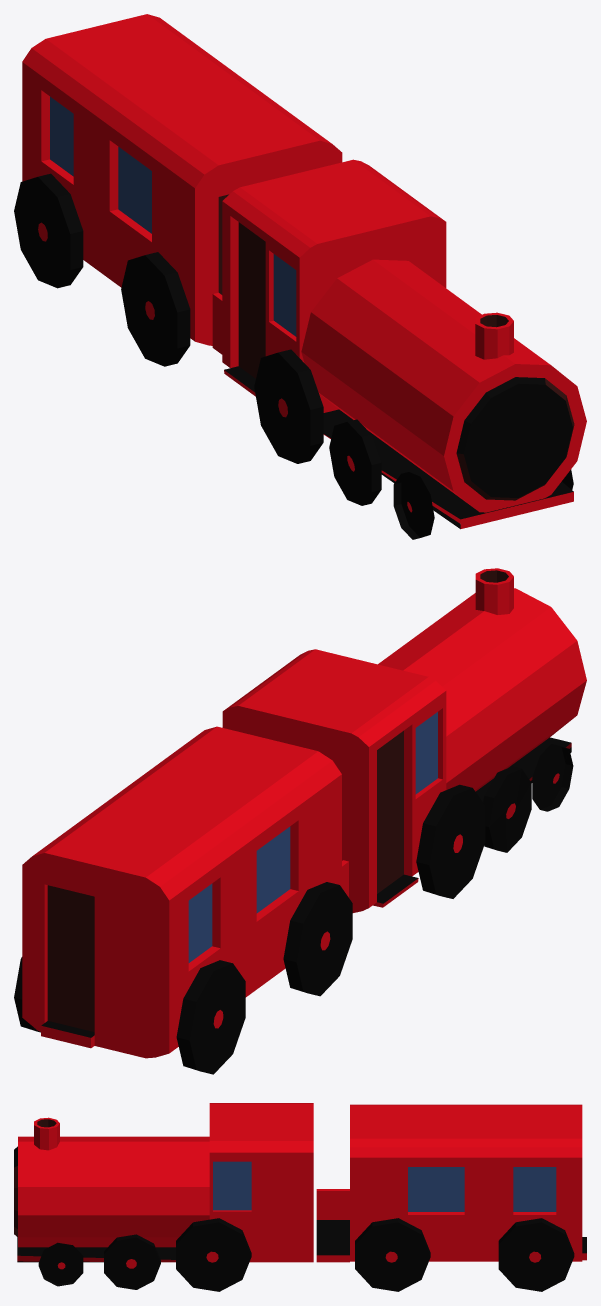
File: trainjam.fbx
3 renders of one model, top to bottom at view 1: azimuth 30°, elevation 25°; view 2: azimuth 150°, elevation 25°; view 3: azimuth 270°, elevation 25°, orthographic. The views are drawn at different scales.
Visible parts, largest first — view 1: Cube; view 2: Cube; view 3: Cube.
Boxes of the visible parts, left/top/right/bottom form: Cube: left=14, top=14, right=586, bottom=539; Cube: left=14, top=568, right=586, bottom=1074; Cube: left=14, top=1103, right=586, bottom=1291.
Size of the model in its own units: 470 by 538 by 1974.
